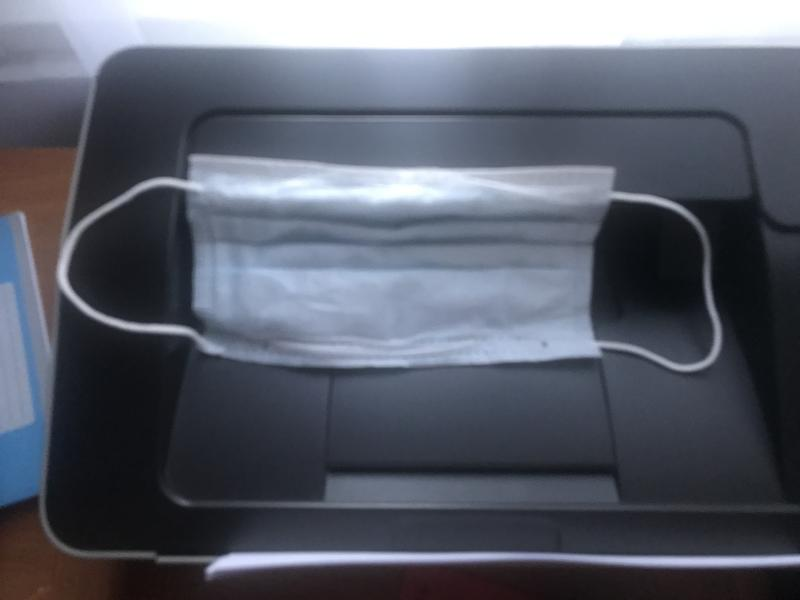medical_mask: (56, 154, 722, 376)
